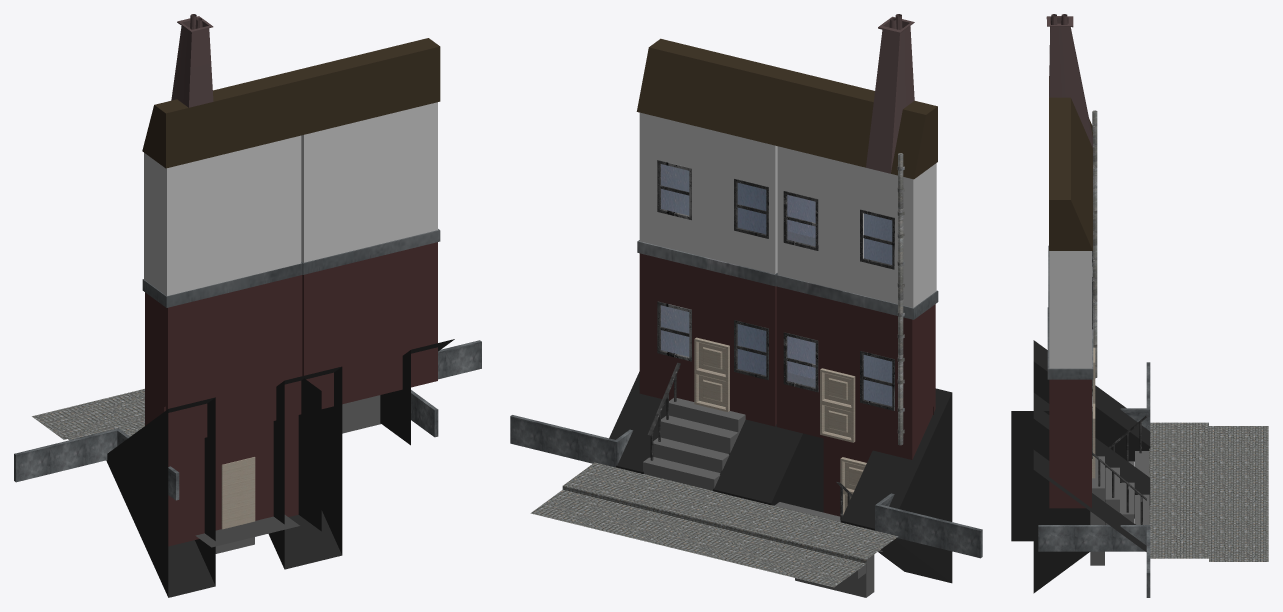
Rendered from obj_House.fbx.
3 views of the same model, side by side, from view 1: azimuth 30°, elevation 25°; view 2: azimuth 150°, elevation 25°; view 3: azimuth 270°, elevation 25° (orthographic). The views are drawn at different scales.
Visible parts, largest first — view 1: House_B, House_A, RotateWall, Roof, Rand, Fence_R, Street_High, Schoorsteen, AdaDoor, Fence_L, Street_Low, Stairs_L; view 2: House_A, House_B, Roof, Street_High, RotateWall, Windows, Stairs_L, Windowbars, Schoorsteen, Doors, Rand, Fence_L (+5 smaller); view 3: Street_High, RotateWall, Roof, House_B, House_A, Fence_L, Schoorsteen, Stairs_L, Pipes, Rand, Fence_R, Stairs_R (+2 smaller).
Boxes of the visible parts, bbox=[...] form: House_B: bbox=[145, 242, 437, 546]; House_A: bbox=[144, 102, 437, 295]; RotateWall: bbox=[106, 339, 454, 597]; Roof: bbox=[142, 38, 440, 168]; Rand: bbox=[142, 229, 440, 307]; Fence_R: bbox=[14, 428, 179, 500]; Street_High: bbox=[32, 388, 144, 440]; Schoorsteen: bbox=[171, 14, 213, 107]; AdaDoor: bbox=[221, 457, 255, 529]; Fence_L: bbox=[411, 340, 481, 437]; Street_Low: bbox=[195, 515, 299, 547]; Stairs_L: bbox=[342, 395, 380, 433]; House_A: bbox=[639, 112, 936, 307]; House_B: bbox=[639, 253, 935, 516]; Roof: bbox=[636, 38, 937, 179]; Street_High: bbox=[530, 462, 898, 587]; RotateWall: bbox=[609, 371, 952, 583]; Windows: bbox=[661, 164, 892, 406]; Stairs_L: bbox=[643, 398, 745, 490]; Windowbars: bbox=[657, 160, 894, 410]; Schoorsteen: bbox=[866, 14, 914, 173]; Doors: bbox=[694, 337, 855, 442]; Rand: bbox=[637, 240, 938, 319]; Fence_L: bbox=[510, 415, 632, 467]; Street_High: bbox=[1149, 422, 1268, 561]; RotateWall: bbox=[1011, 340, 1150, 593]; Roof: bbox=[1049, 76, 1092, 250]; House_B: bbox=[1049, 379, 1091, 508]; House_A: bbox=[1049, 251, 1091, 368]; Fence_L: bbox=[1038, 525, 1150, 597]; Schoorsteen: bbox=[1046, 14, 1092, 147]; Stairs_L: bbox=[1090, 456, 1149, 524]; Pipes: bbox=[1092, 110, 1097, 378]; Rand: bbox=[1047, 245, 1093, 379]; Fence_R: bbox=[1120, 362, 1150, 430]; Stairs_R: bbox=[1090, 451, 1149, 565].
Size of the model in its own units: 135 by 155 by 69.6.
